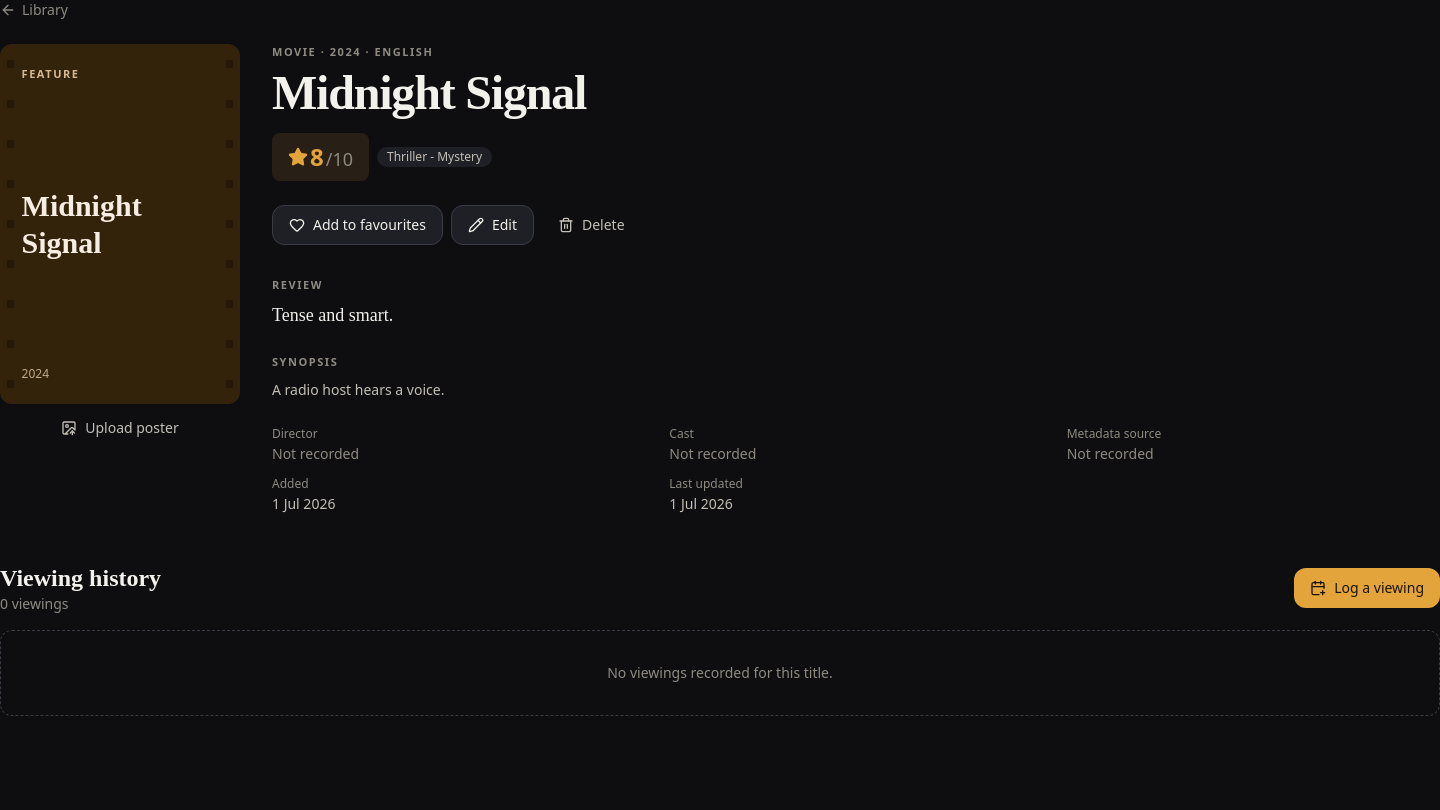
MovieDetailPage › logs a new viewing through the dialog
Click the button "Log a viewing": (1367, 588) top-left (1294, 568), bottom-right (1439, 608)
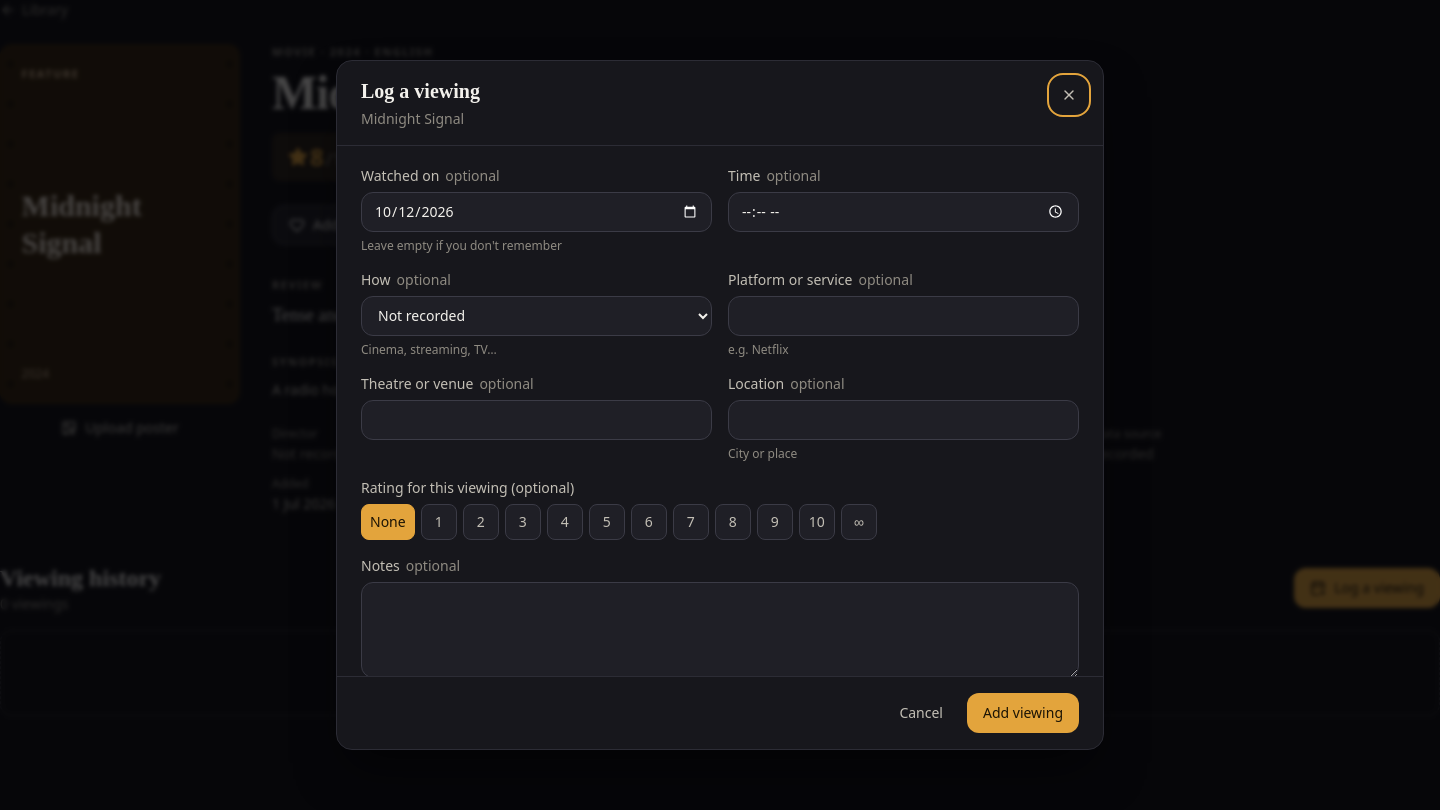
In the date field labelled "Watched on": (536, 212) top-left (361, 192), bottom-right (712, 232), type "2026-03-21"
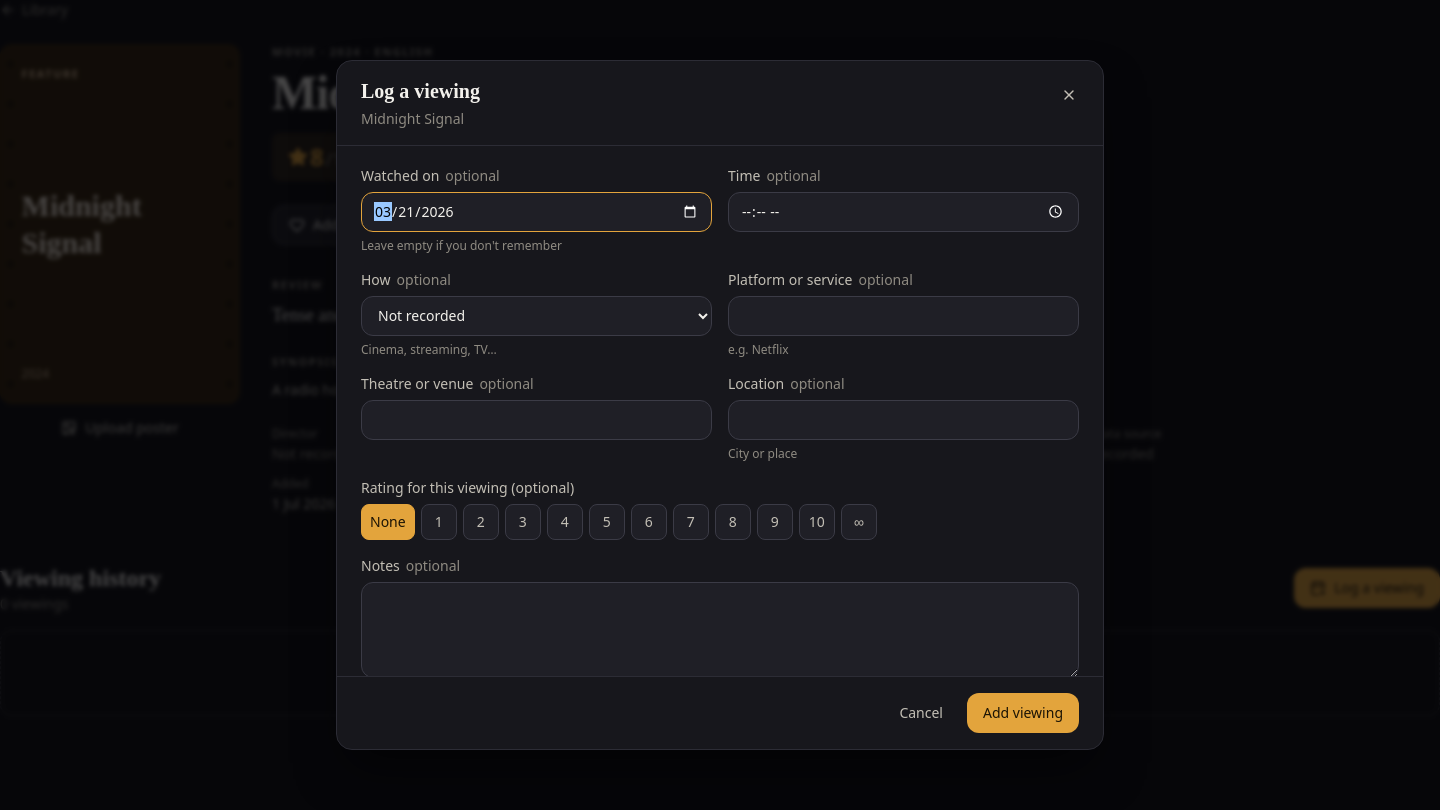
Select "Streaming" in the dropdown labelled "How": (536, 316) top-left (361, 296), bottom-right (712, 336)
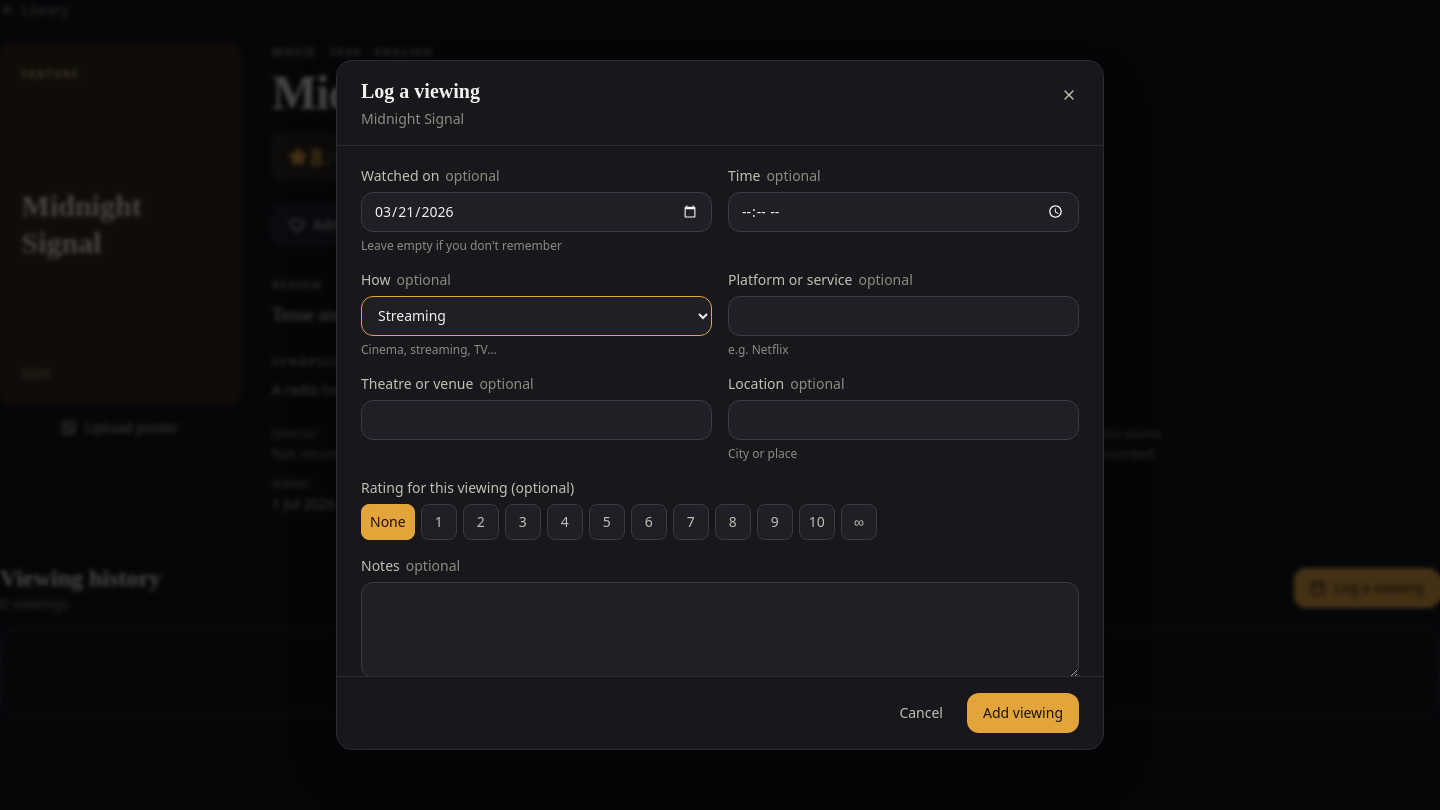
In the field labelled "Platform or service": (904, 316) top-left (728, 296), bottom-right (1079, 336), type "Netflix"
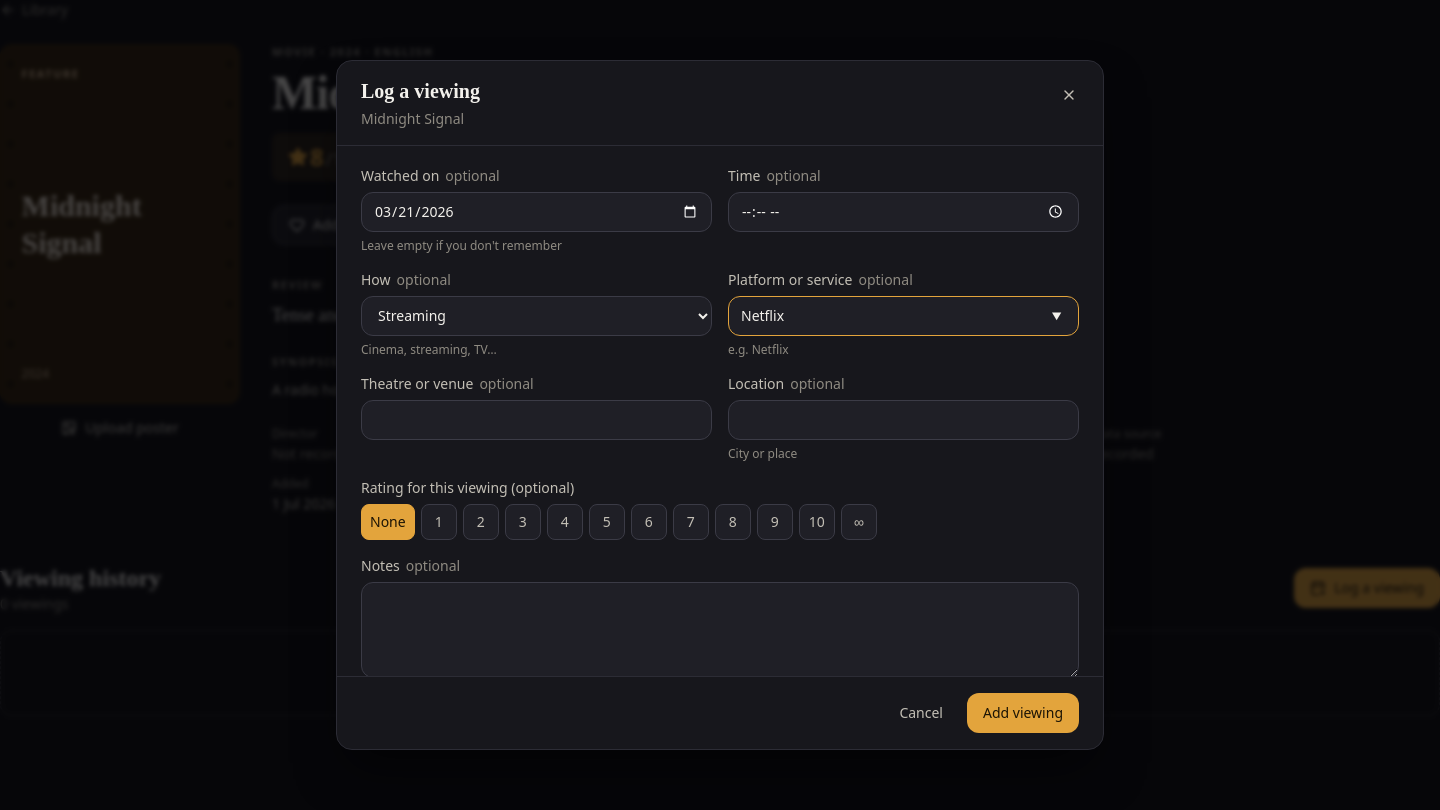
Click the radio button named "9 out of 10": (775, 522) top-left (757, 504), bottom-right (793, 540)
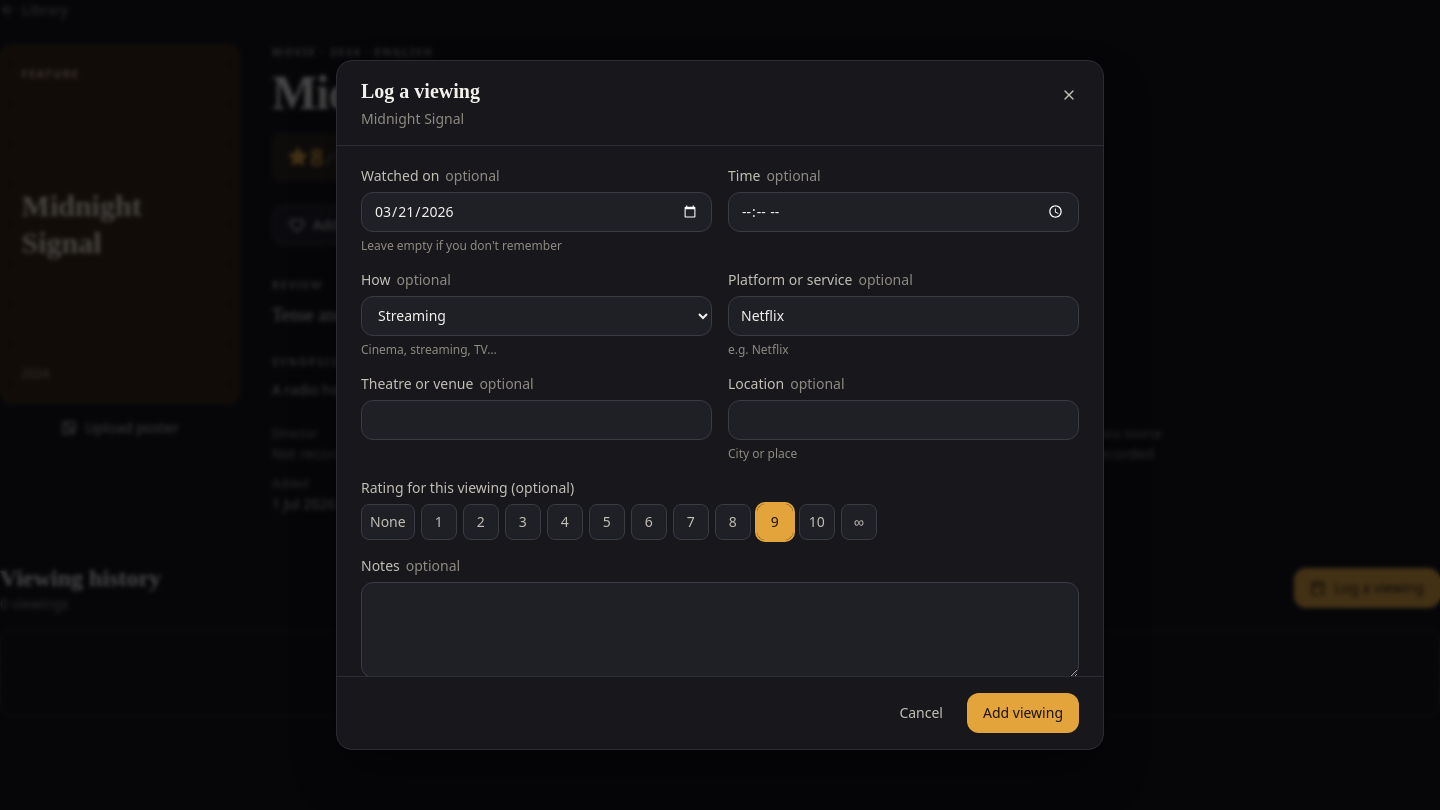
Click the button "Add viewing": (1023, 713) top-left (967, 693), bottom-right (1079, 733)
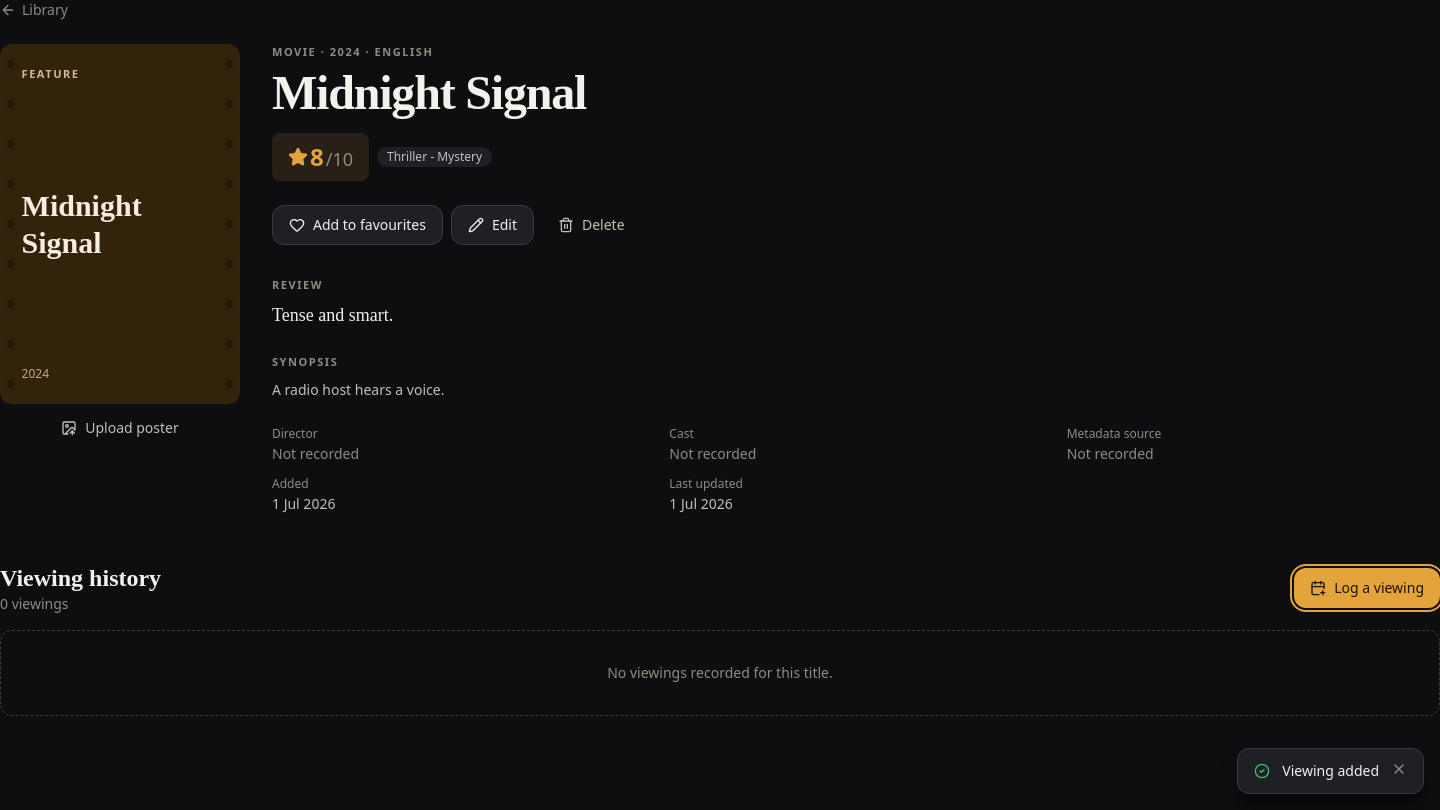
Expected: the text "Viewing added" is shown, top-left (1282, 761), bottom-right (1379, 781)
